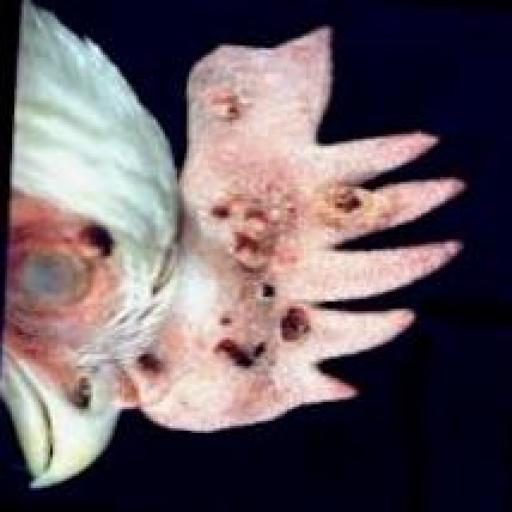disease: (200, 171, 388, 380), (0, 180, 119, 346), (318, 175, 383, 232), (126, 331, 168, 383), (212, 86, 254, 124)
